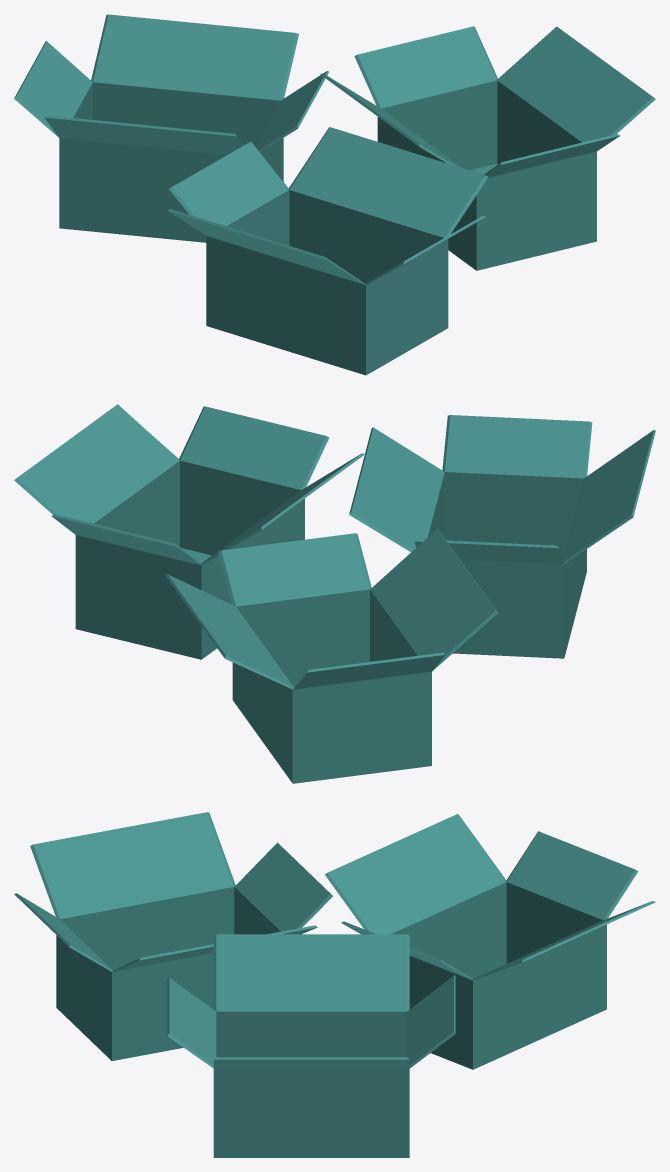
Rendered from Caixas.fbx.
3 renders of one model, top to bottom at view 1: azimuth 30°, elevation 25°; view 2: azimuth 150°, elevation 25°; view 3: azimuth 270°, elevation 25°, orthographic. The views are drawn at different scales.
Parts seen in each view (by area): view 1: Cube.064, Cube.060, Cube.087; view 2: Cube.060, Cube.087, Cube.064; view 3: Cube.087, Cube.060, Cube.064.
Part boxes in pixels (left/top/right/bottom): Cube.064: left=167, top=127, right=488, bottom=375; Cube.060: left=14, top=14, right=328, bottom=242; Cube.087: left=320, top=26, right=655, bottom=270; Cube.060: left=165, top=529, right=497, bottom=783; Cube.087: left=14, top=404, right=364, bottom=659; Cube.064: left=349, top=415, right=655, bottom=658; Cube.087: left=167, top=934, right=455, bottom=1157; Cube.060: left=324, top=814, right=655, bottom=1069; Cube.064: left=14, top=812, right=332, bottom=1060.
Size of the model in its own units: 177 by 48.25 by 203.
